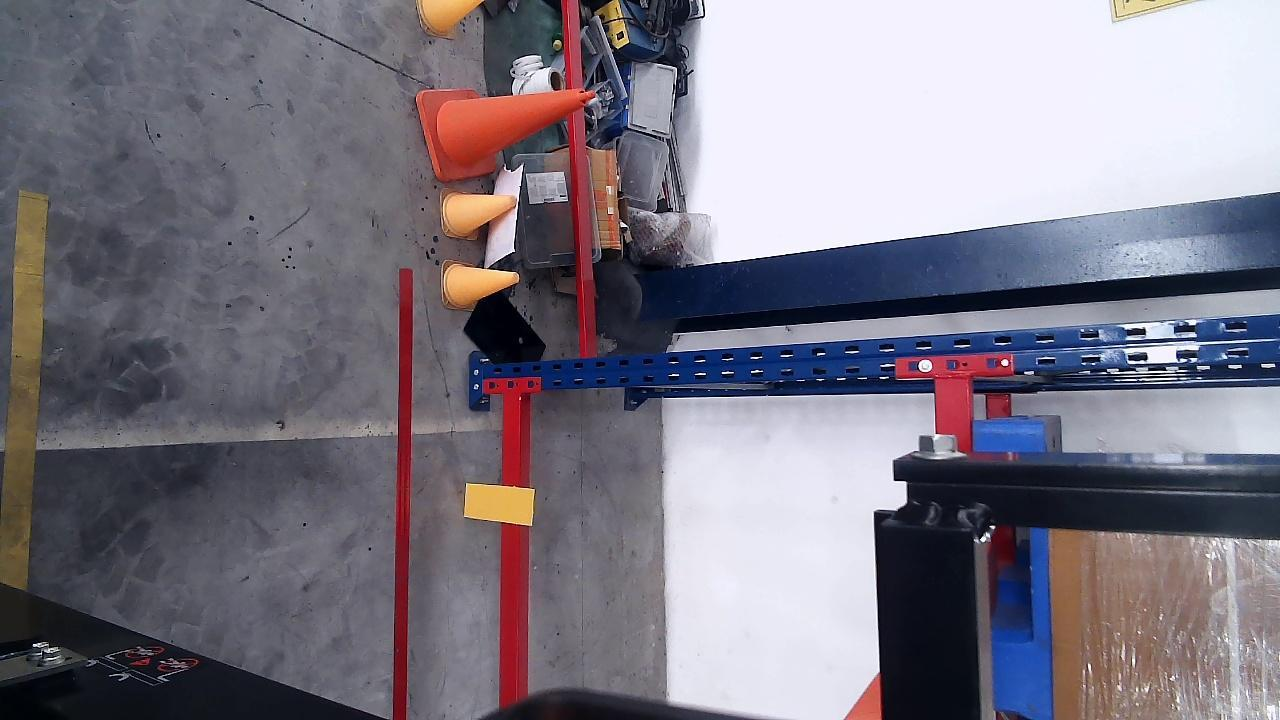h_rack: (500, 395, 519, 704)
orange_strip: (462, 485, 534, 525)
red_line: (394, 268, 412, 720)
yellow_line: (0, 189, 46, 590)
